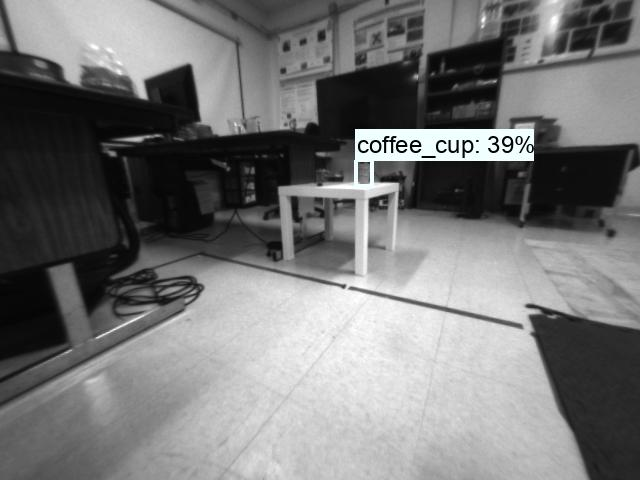coffee_cup: (355, 162, 372, 184)
